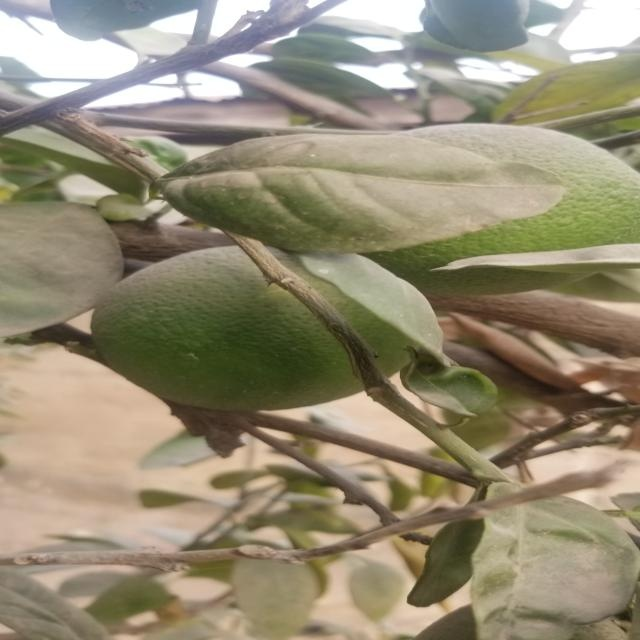agrume: (85, 243, 415, 411), (356, 117, 630, 299)
